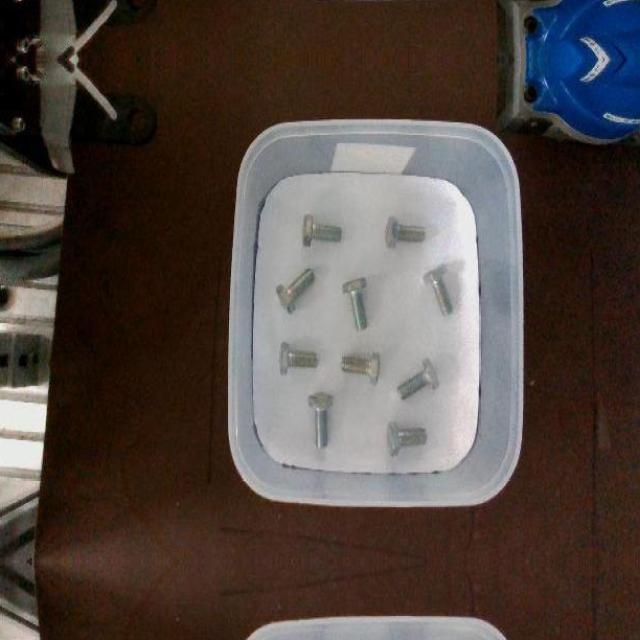screw: (398, 356, 440, 399), (276, 266, 315, 312), (423, 264, 454, 316), (387, 420, 428, 456), (384, 216, 426, 250), (340, 350, 379, 386), (342, 277, 368, 330), (308, 391, 332, 448), (277, 340, 317, 373), (301, 212, 341, 244)
